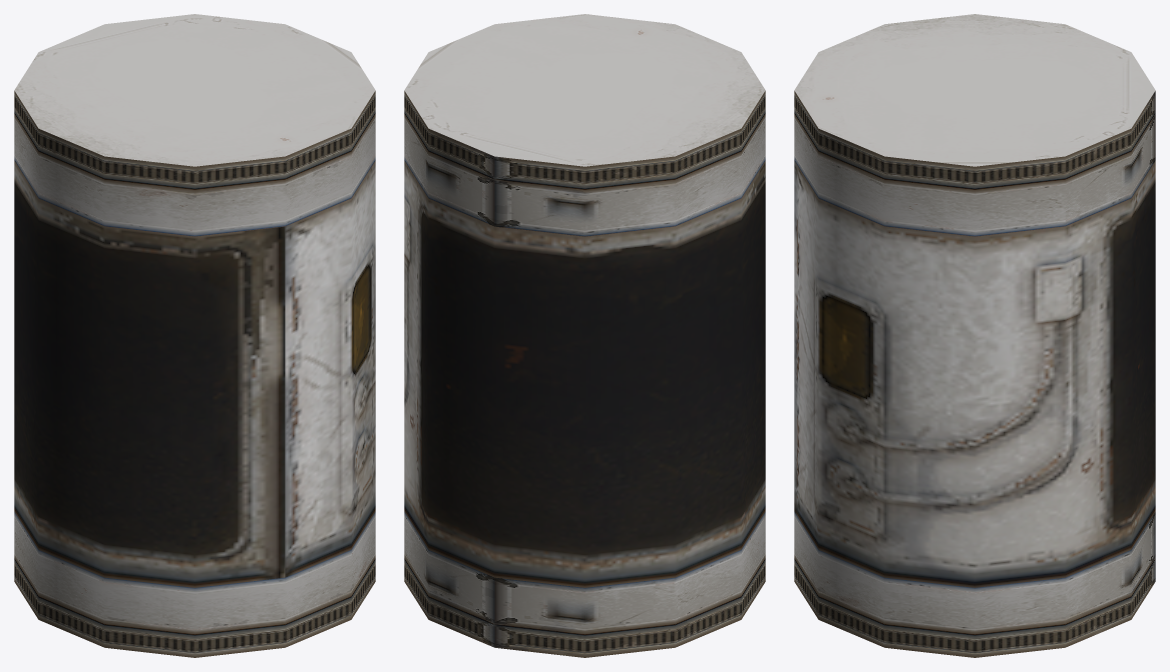
The model's file is scifi_barrel_3.FBX.
3 renders of one model, left to right at view 1: azimuth 30°, elevation 25°; view 2: azimuth 150°, elevation 25°; view 3: azimuth 270°, elevation 25°, orthographic.
Visible parts, largest first — view 1: Cylinder004; view 2: Cylinder004; view 3: Cylinder004.
Part boxes in pixels (x1=…): Cylinder004: x1=14, y1=14, x2=375, y2=657; Cylinder004: x1=404, y1=14, x2=765, y2=657; Cylinder004: x1=794, y1=14, x2=1155, y2=657.
Bounding box in the file's own units: 102 × 152 × 102.
